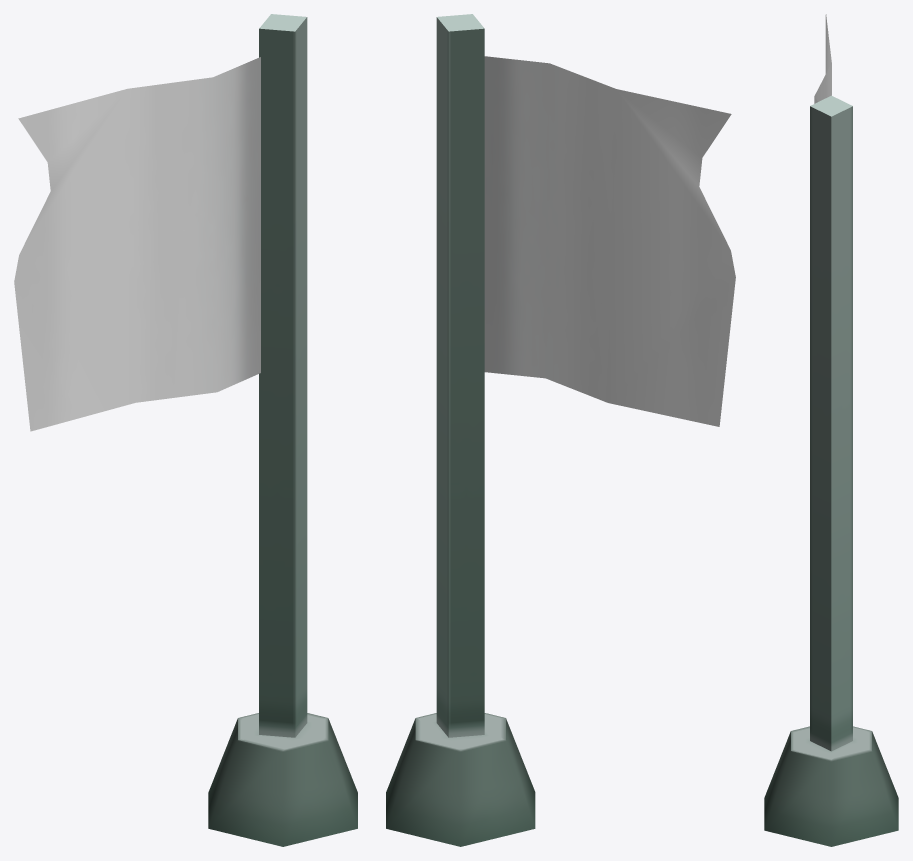
File: lunchuan_baiqi.FBX
The picture shows the model from 3 angles, left to right: view 1: azimuth 30°, elevation 25°; view 2: azimuth 150°, elevation 25°; view 3: azimuth 270°, elevation 25°; orthographic projection. The views are drawn at different scales.
Visible parts, largest first — view 1: lunchuan_baiqi; view 2: lunchuan_baiqi; view 3: lunchuan_baiqi.
Boxes of the visible parts, bbox=[...] form: lunchuan_baiqi: bbox=[14, 14, 357, 846]; lunchuan_baiqi: bbox=[386, 14, 735, 846]; lunchuan_baiqi: bbox=[764, 14, 898, 846].
Size of the model in its own units: 198 by 429 by 73.77.
1 material, 1 textured.
